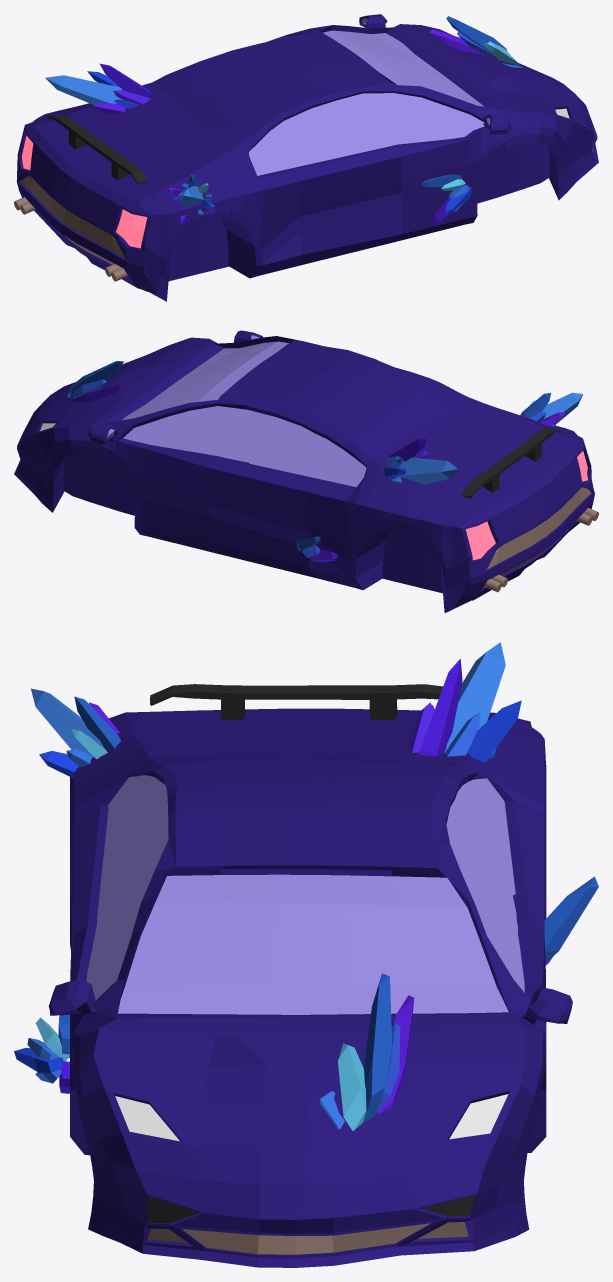
File: CarIceSkinV3.fbx
The picture shows the model from 3 angles, top to bottom: view 1: azimuth 30°, elevation 25°; view 2: azimuth 150°, elevation 25°; view 3: azimuth 270°, elevation 25°; orthographic projection. The views are drawn at different scales.
Parts seen in each view (by area): view 1: CarIce4; view 2: CarIce4; view 3: CarIce4.
Boxes of the visible parts, box(x1,y1,x2,y2) form: CarIce4: box(14, 14, 598, 301); CarIce4: box(14, 330, 598, 612); CarIce4: box(14, 642, 598, 1267).
Size of the model in its own units: 226 by 410 by 115.
